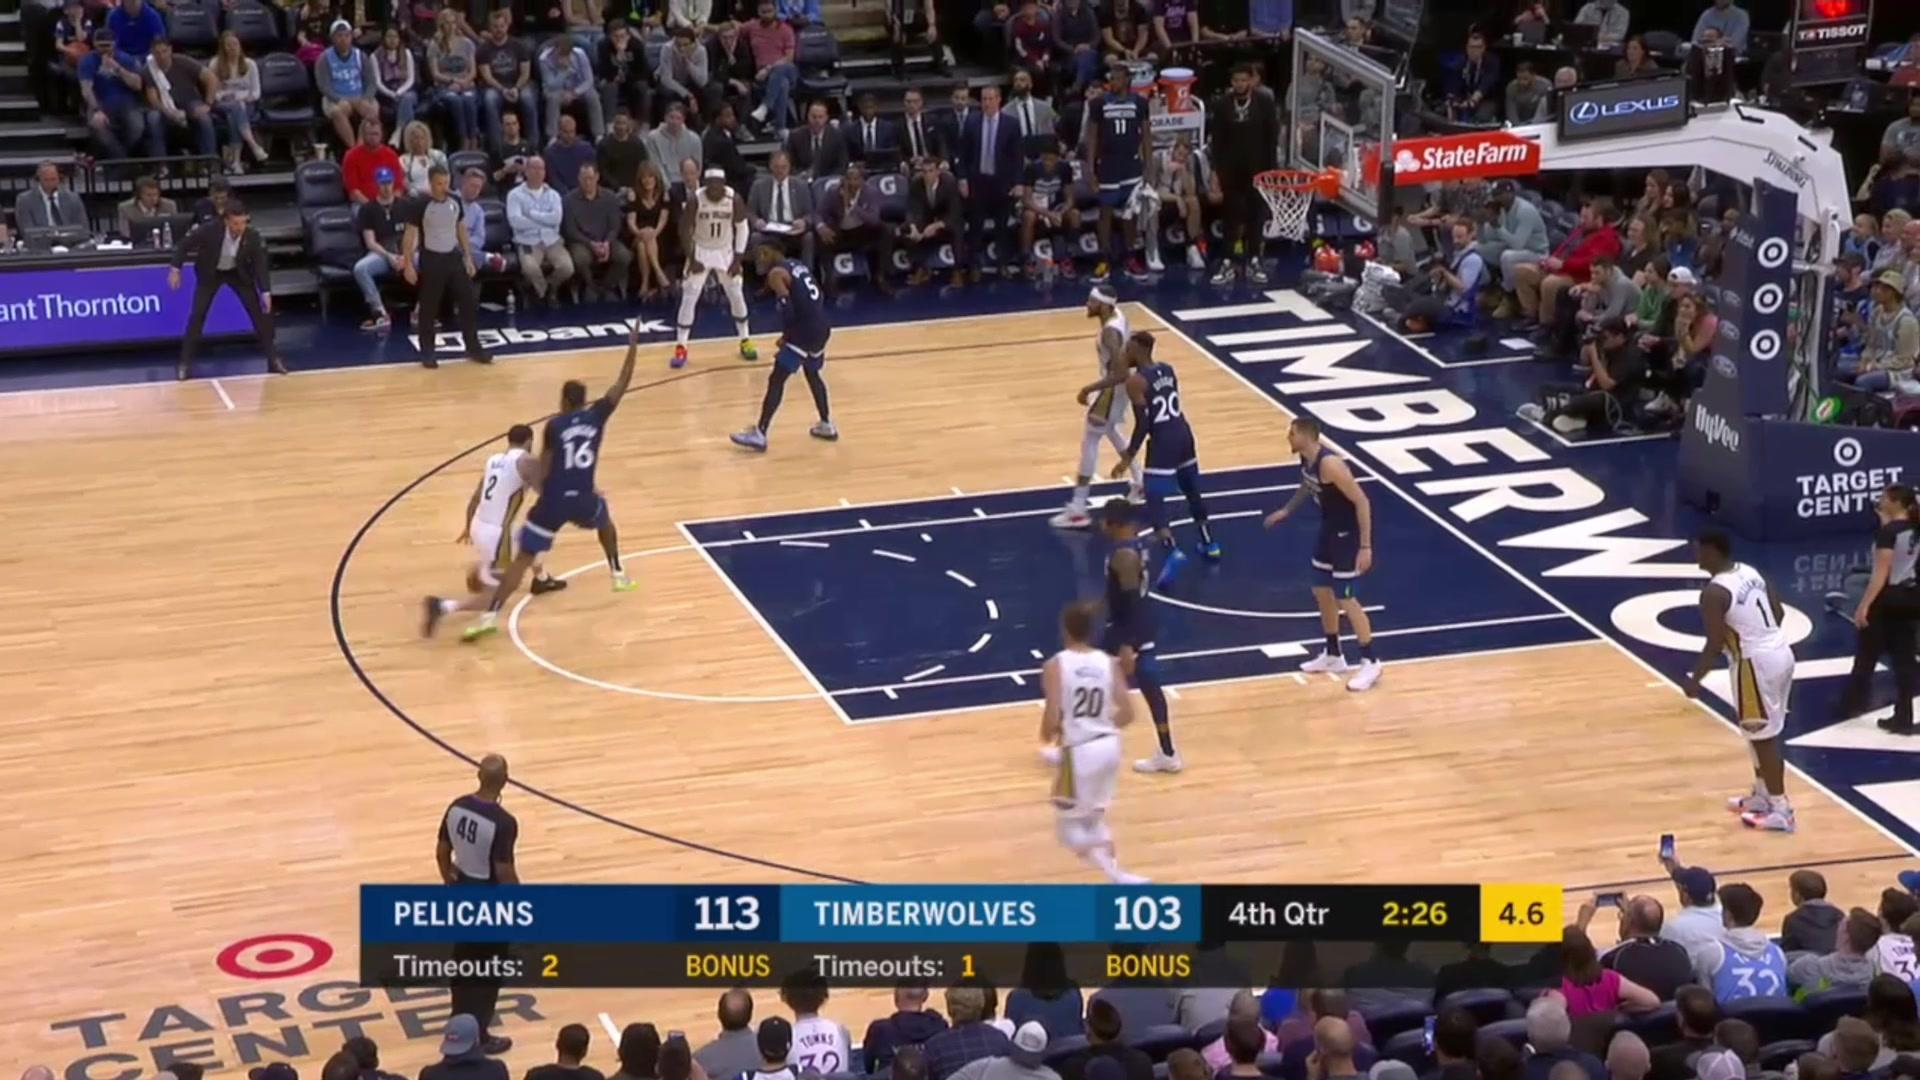no_foul: (454, 381, 616, 654)
